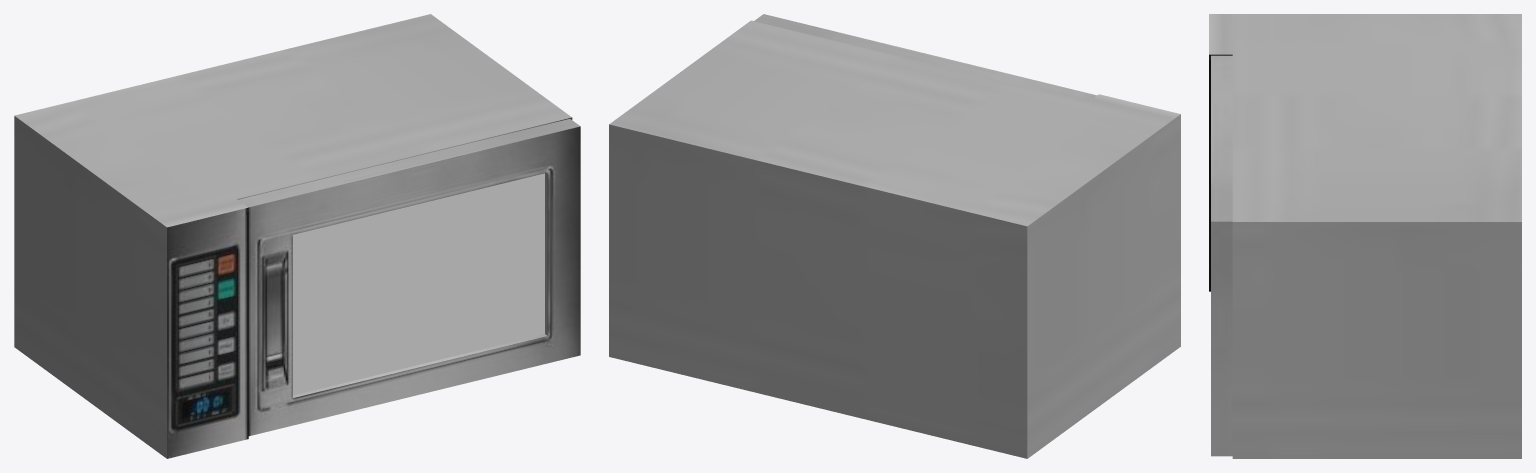
File: Microwave_03-col.glb
The picture shows the model from 3 angles, left to right: view 1: azimuth 30°, elevation 25°; view 2: azimuth 150°, elevation 25°; view 3: azimuth 270°, elevation 25°; orthographic projection. The views are drawn at different scales.
Visible parts, largest first — view 1: Microwave_03-col, Microwave_door_03; view 2: Microwave_03-col, Microwave_door_03; view 3: Microwave_03-col, Microwave_door_03.
Part boxes in pixels (x1,y1,x2,y2): Microwave_03-col: (14, 14, 572, 458); Microwave_door_03: (238, 119, 580, 436); Microwave_03-col: (609, 20, 1180, 458); Microwave_door_03: (754, 14, 1096, 102); Microwave_03-col: (1209, 14, 1521, 458); Microwave_door_03: (1211, 55, 1232, 456).
Size of the model in its own units: 0.6887 by 0.3658 by 0.4376.
Materials: 2 (1 with a texture image).
